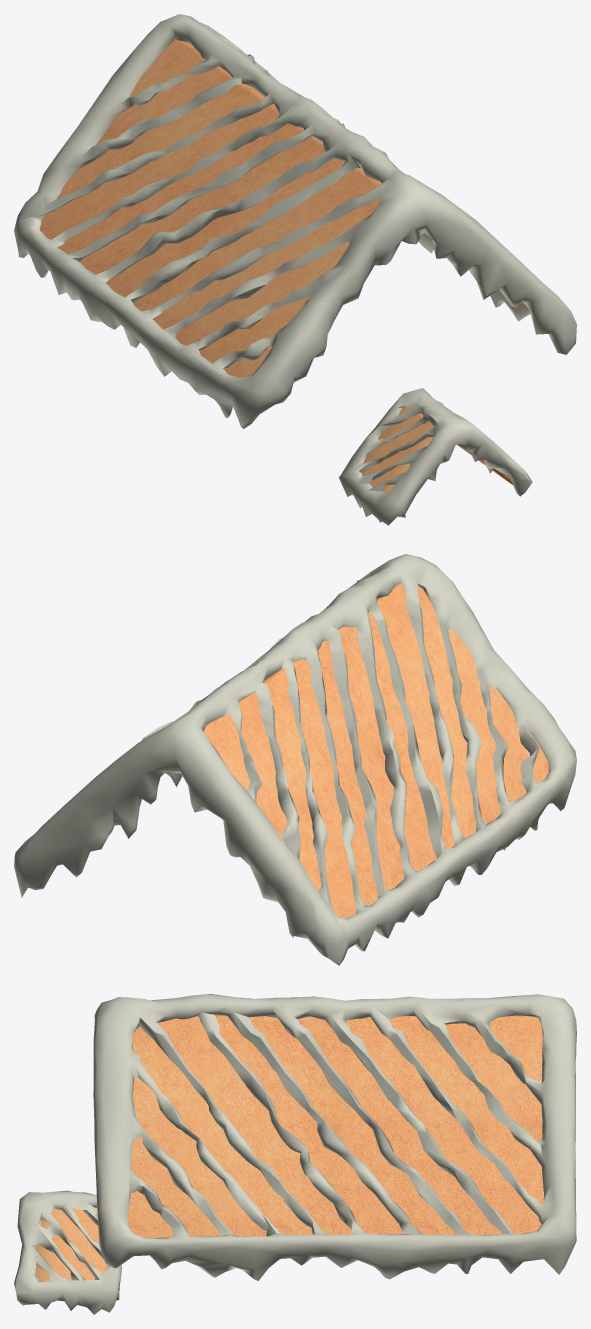
Rendered from Lattice_Roof.glb.
3 renders of one model, top to bottom at view 1: azimuth 30°, elevation 25°; view 2: azimuth 150°, elevation 25°; view 3: azimuth 270°, elevation 25°, orthographic. The views are drawn at different scales.
Parts seen in each view (by area): view 1: Lattice_Roof, Lattic_Roof_Support; view 2: Lattice_Roof, Lattic_Roof_Support; view 3: Lattice_Roof, Lattic_Roof_Support.
Boxes of the visible parts, x1,y1,x2,y2 form: Lattice_Roof: [14, 14, 576, 525]; Lattic_Roof_Support: [39, 39, 528, 493]; Lattice_Roof: [14, 554, 576, 965]; Lattic_Roof_Support: [203, 583, 548, 917]; Lattice_Roof: [14, 994, 576, 1314]; Lattic_Roof_Support: [35, 1014, 543, 1300].
Bounding box in the file's own units: 0.1015 × 0.0853 × 0.1514.
Materials: 3 (3 with a texture image).
